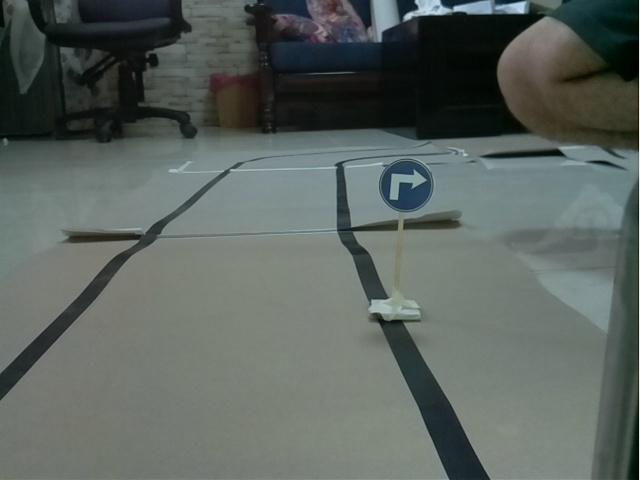turn: (376, 158, 437, 215)
